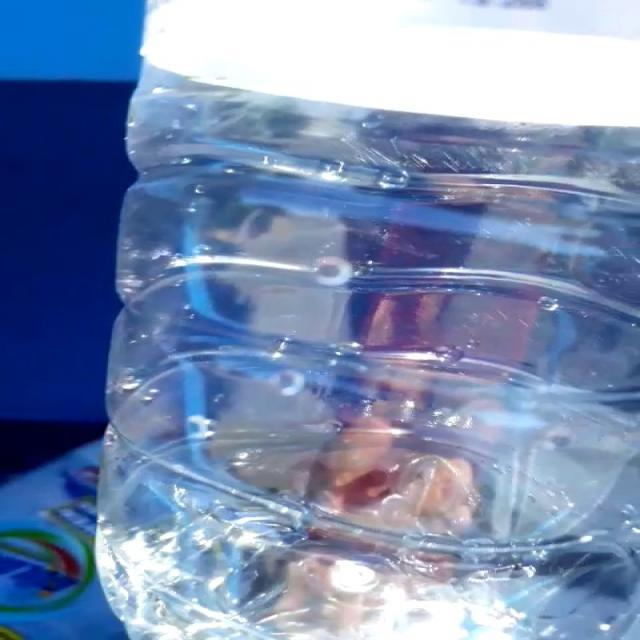Plastic: (97, 78, 640, 640)
